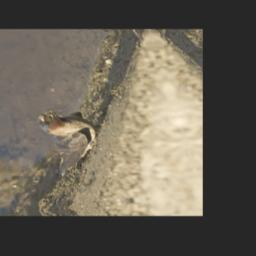Swallow: (34, 106, 111, 175)
